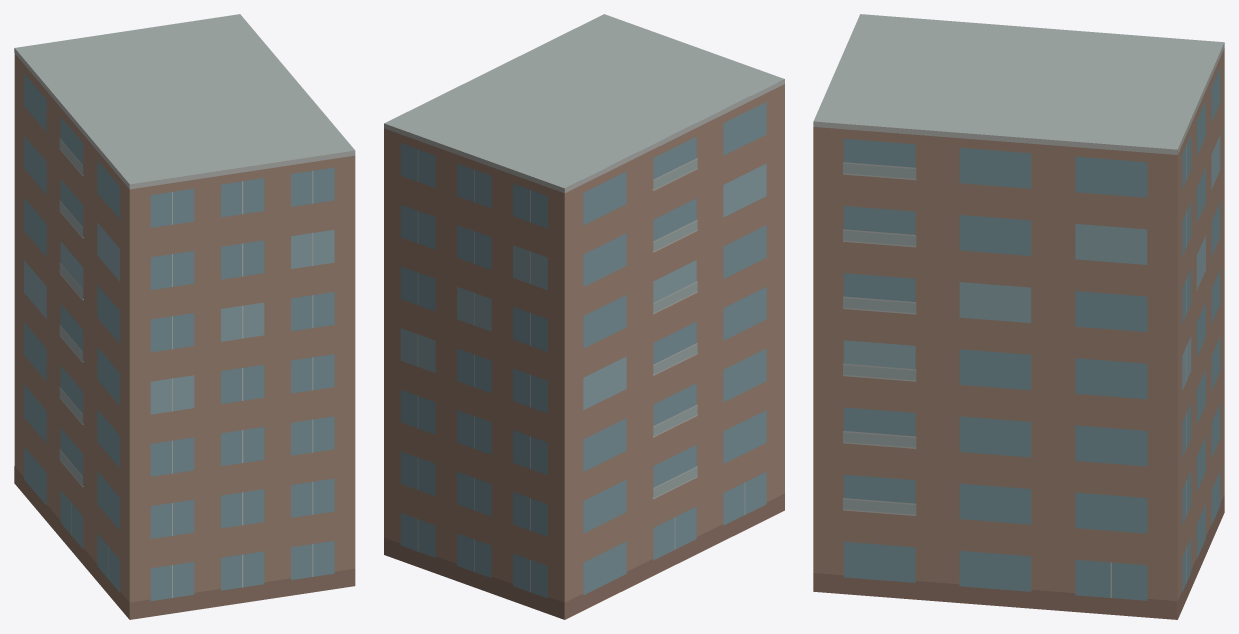
Rendered from survey-upis-33025913.glb.
3 renders of one model, left to right at view 1: azimuth 30°, elevation 25°; view 2: azimuth 150°, elevation 25°; view 3: azimuth 270°, elevation 25°, orthographic. The views are drawn at different scales.
Visible parts, largest first — view 1: survey-upis-33025913.tmp; view 2: survey-upis-33025913.tmp; view 3: survey-upis-33025913.tmp.
Part boxes in pixels (x1,y1,x2,y2): survey-upis-33025913.tmp: (14, 14, 355, 619); survey-upis-33025913.tmp: (384, 14, 784, 619); survey-upis-33025913.tmp: (813, 14, 1224, 619).
Size of the model in its own units: 13.22 by 21.35 by 16.93.
